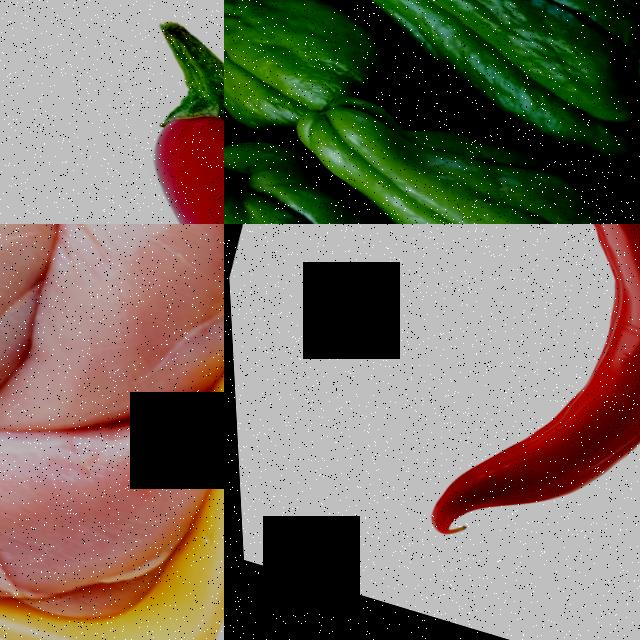chayote: (303, 0, 640, 164), (294, 85, 634, 224), (224, 0, 389, 133), (224, 163, 566, 224)
chicken breast: (0, 224, 224, 456), (0, 400, 196, 636)
chilli: (399, 224, 640, 596), (30, 25, 224, 224)
